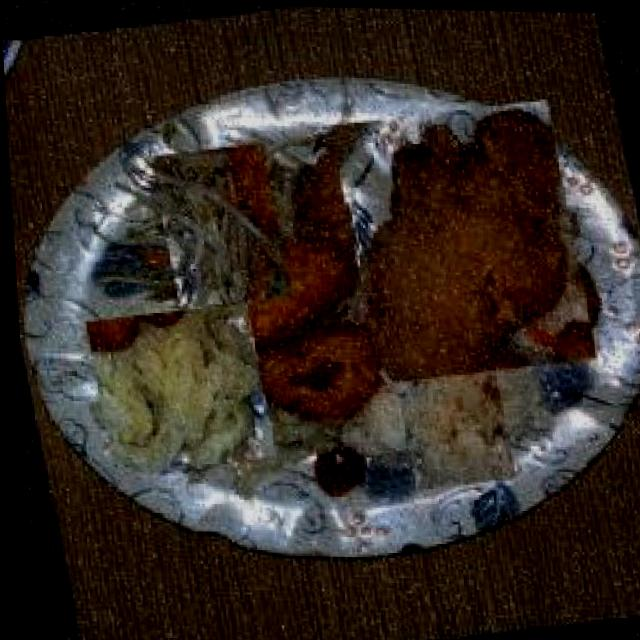chinese_cabbage: (82, 296, 273, 479)
fried_chicken: (320, 103, 602, 381)
mung_bean_sprouts: (140, 147, 300, 303)
rice: (370, 326, 527, 479)
triangle_hash_brown: (203, 233, 390, 434)
